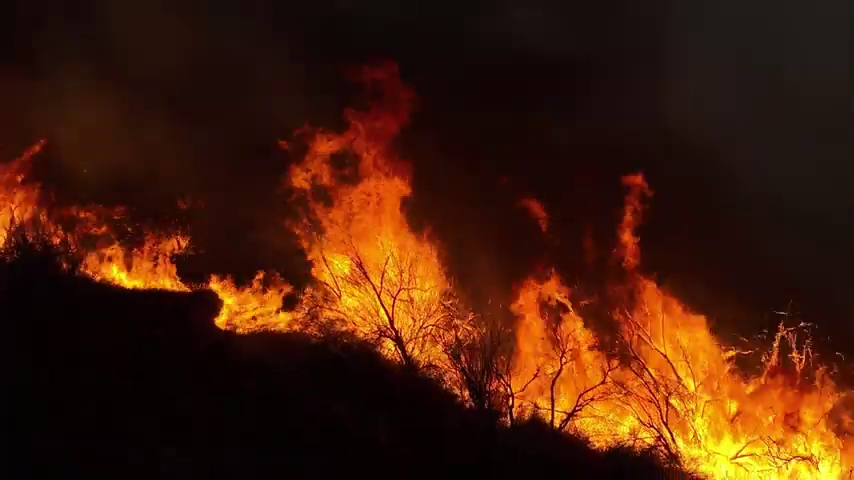forest_fire: (0, 66, 853, 476), (521, 198, 548, 233), (843, 413, 845, 416)
